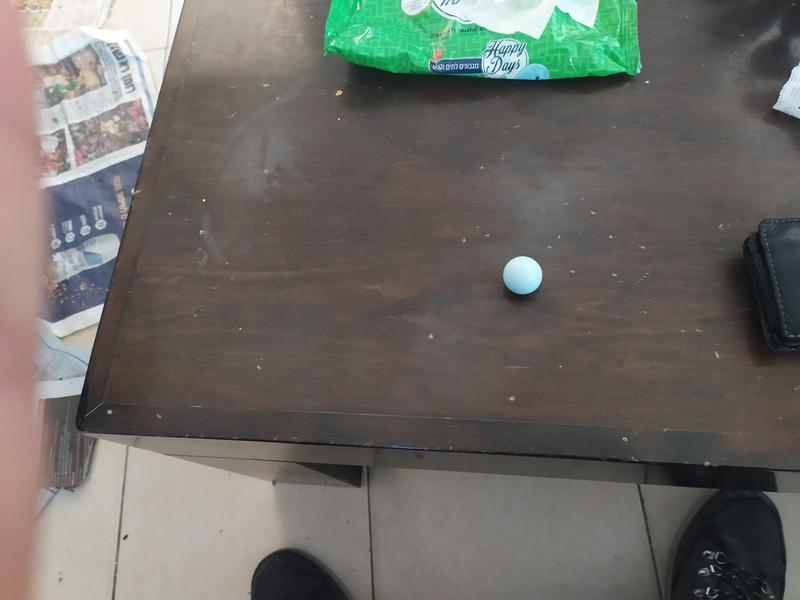Warning: (500, 254, 545, 296)
